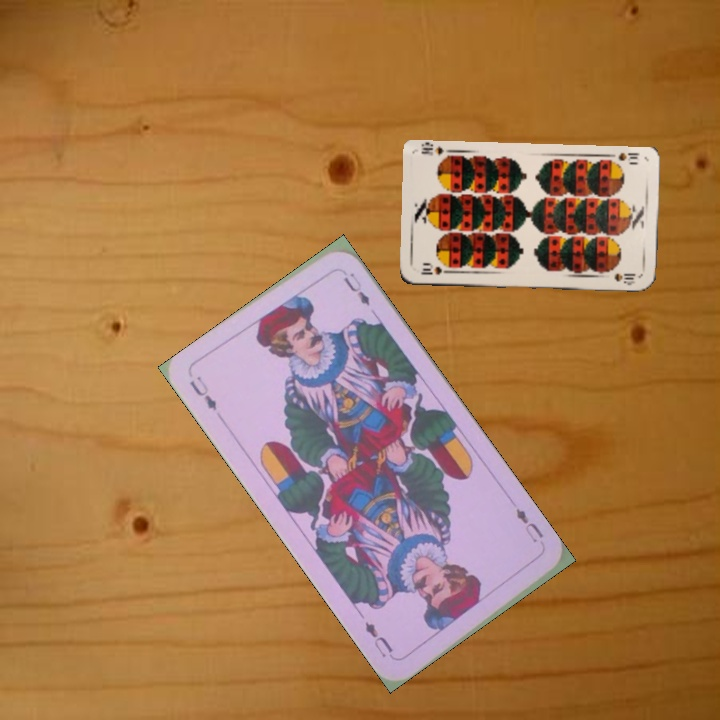EU: (511, 504, 546, 546), (185, 371, 220, 413)
S10: (417, 263, 453, 277), (615, 148, 642, 163)
